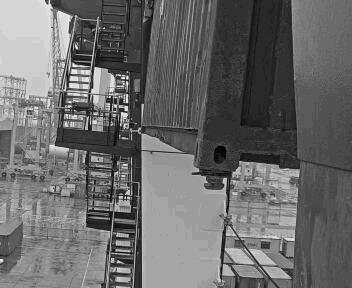twist_lock_1: (182, 157, 223, 195)
